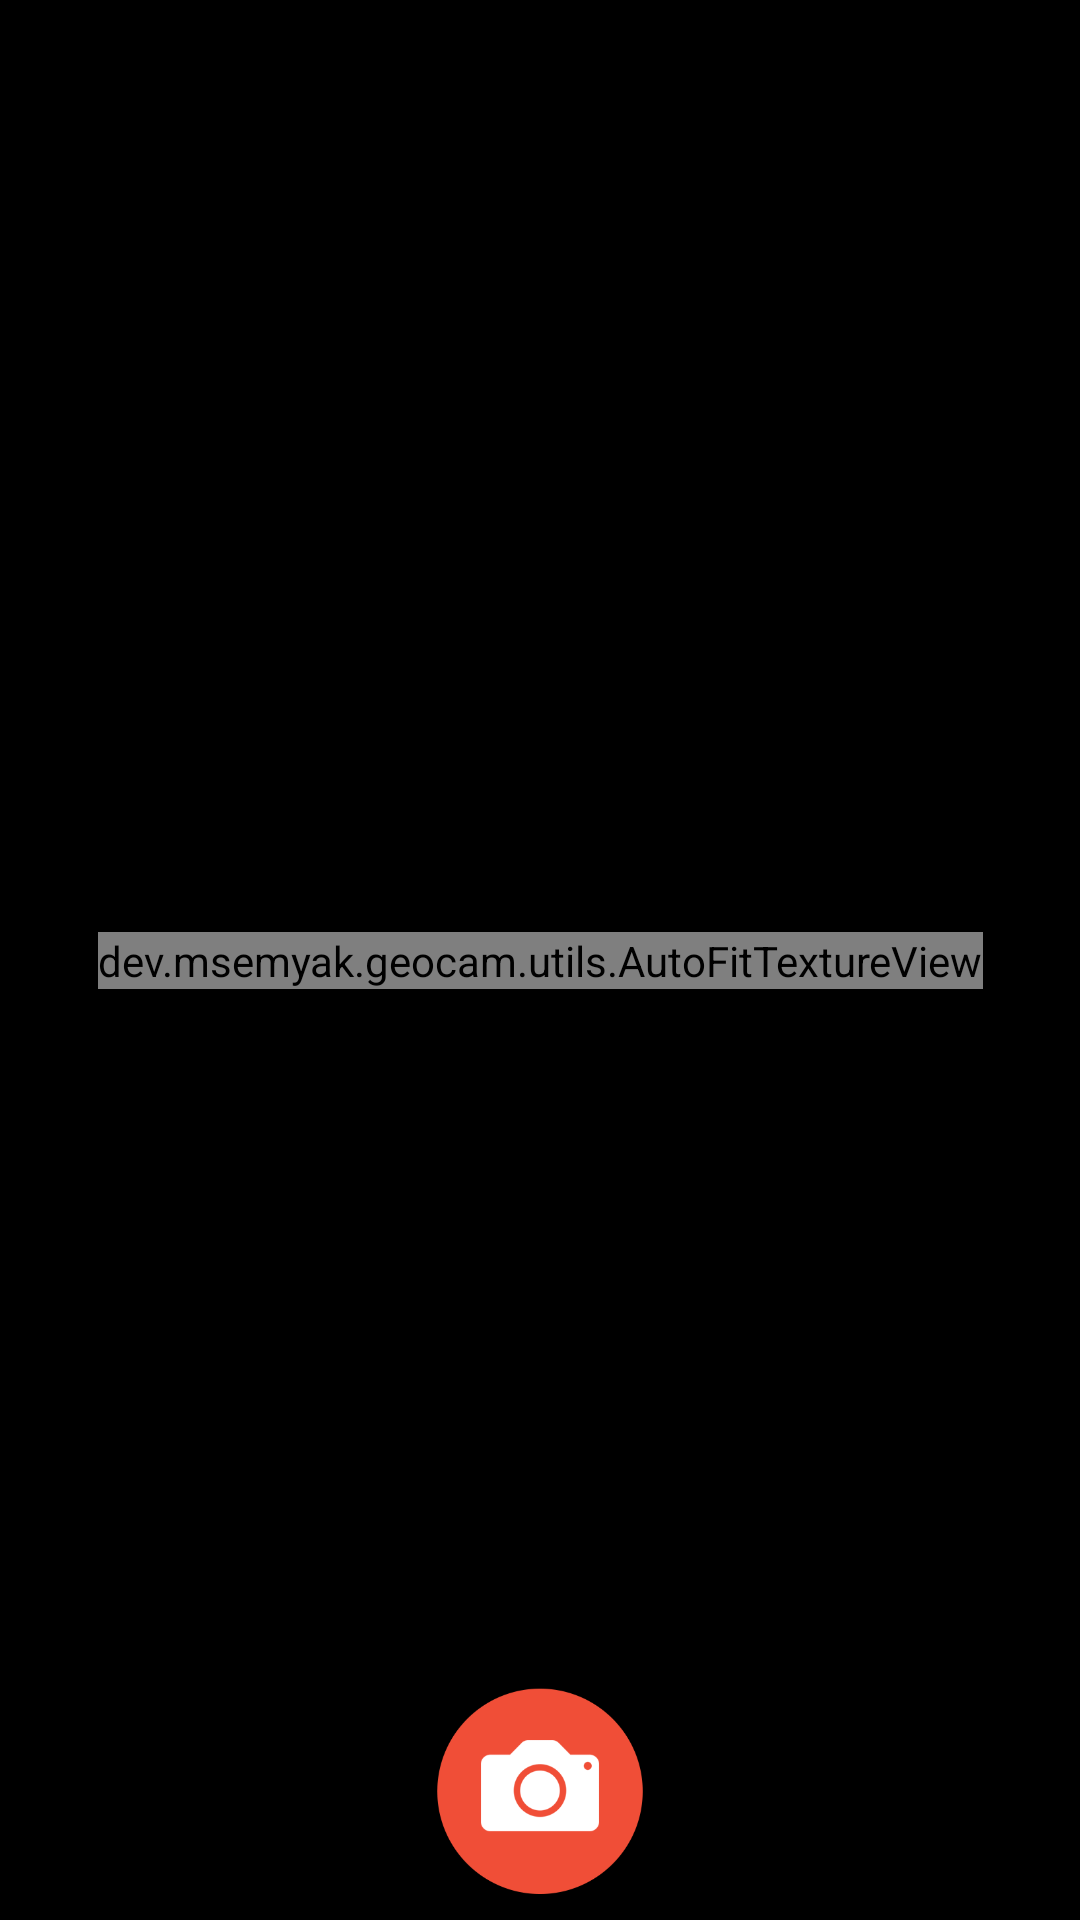

Screen size 1080px×1920px. Icon name, then its center in pixels as (x,y):
camera shoot: (540,1791)
